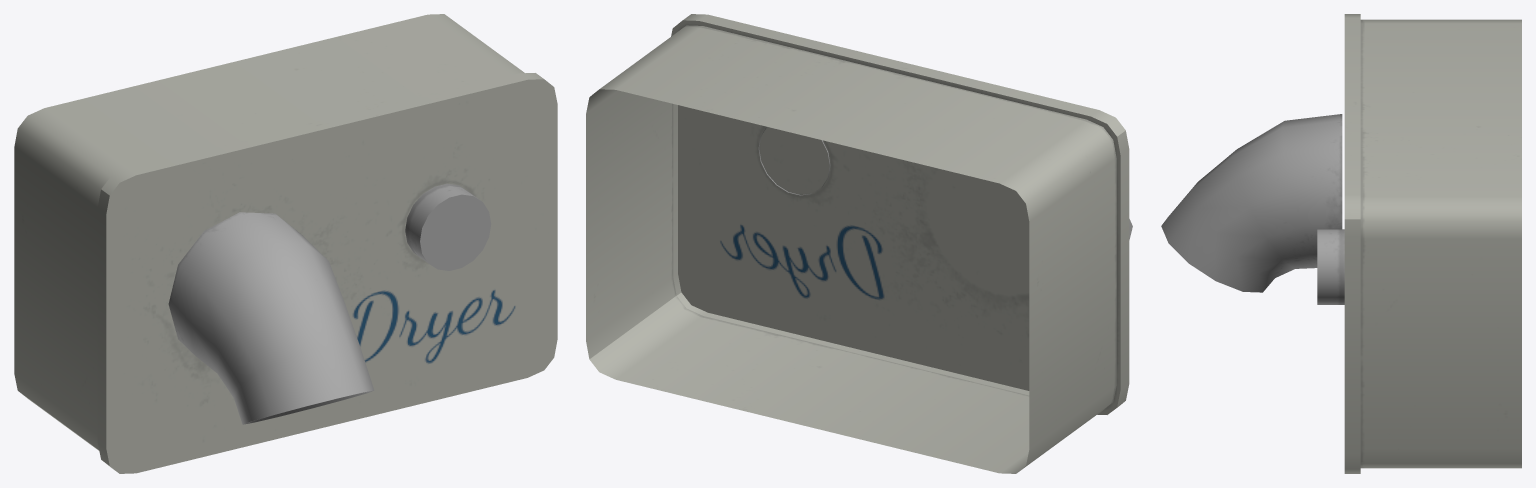
Rendered from Dryer.fbx.
The picture shows the model from 3 angles, left to right: view 1: azimuth 30°, elevation 25°; view 2: azimuth 150°, elevation 25°; view 3: azimuth 270°, elevation 25°; orthographic projection. The views are drawn at different scales.
Parts seen in each view (by area): view 1: Dryer; view 2: Dryer; view 3: Dryer.
Part boxes in pixels (x1,y1,x2,y2): Dryer: (14, 14, 557, 473); Dryer: (586, 14, 1132, 473); Dryer: (1161, 14, 1521, 473).
Size of the model in its own units: 34.11 by 21.54 by 25.59.
